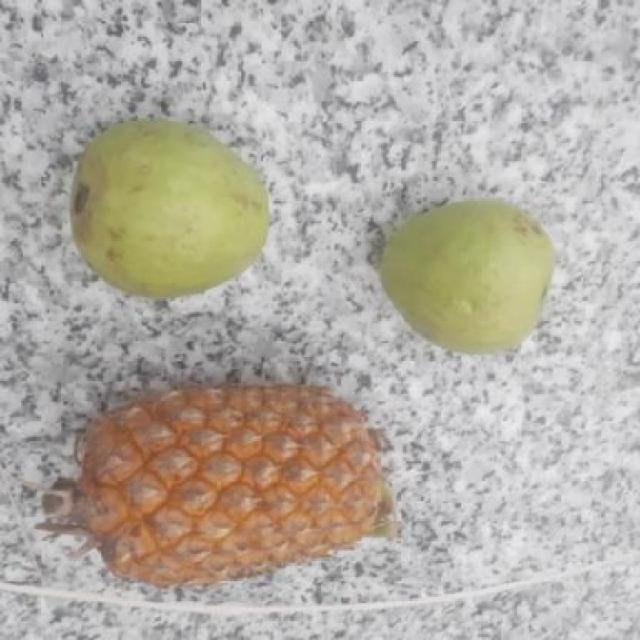guava: (65, 121, 268, 297), (371, 200, 557, 352)
pineapple: (65, 379, 403, 587)
